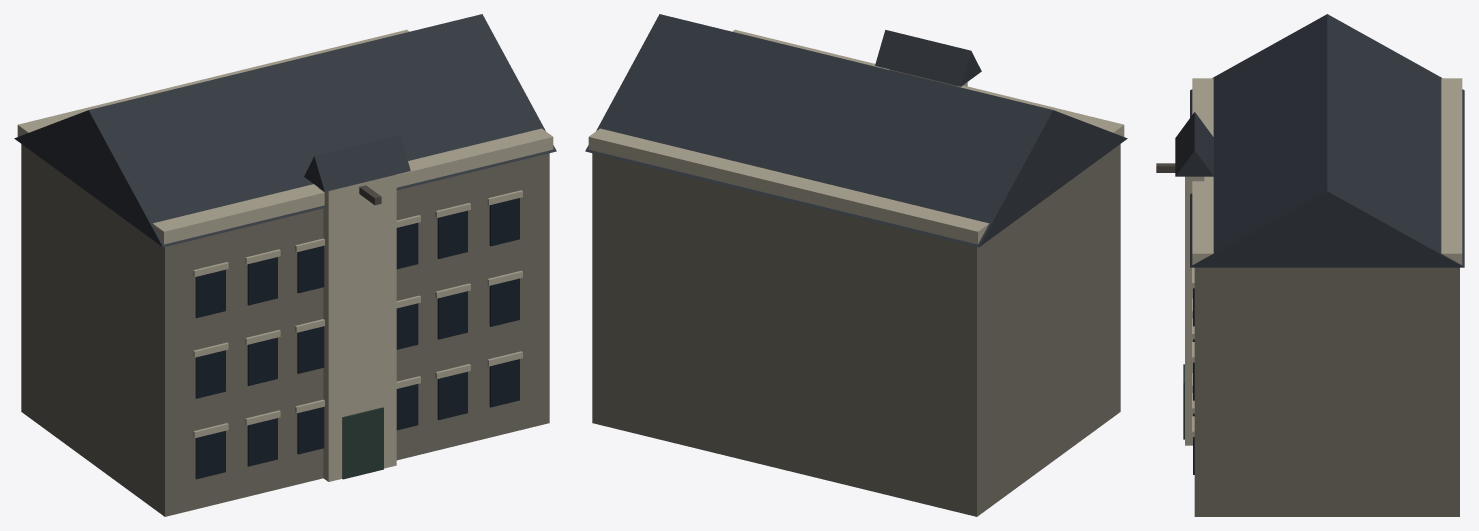
The model's file is building_westyork_s1_mill_flats.glb.
3 renders of one model, left to right at view 1: azimuth 30°, elevation 25°; view 2: azimuth 150°, elevation 25°; view 3: azimuth 270°, elevation 25°, orthographic. The views are drawn at different scales.
Visible parts, largest first — view 1: building_westyork_s1_mill_flats; view 2: building_westyork_s1_mill_flats; view 3: building_westyork_s1_mill_flats.
Part boxes in pixels (x1,y1,x2,y2): building_westyork_s1_mill_flats: (14, 14, 556, 516); building_westyork_s1_mill_flats: (585, 14, 1127, 516); building_westyork_s1_mill_flats: (1156, 14, 1464, 516).
Bounding box in the file's own units: 17.4 × 15 × 12.8.
1 material, 1 textured.
